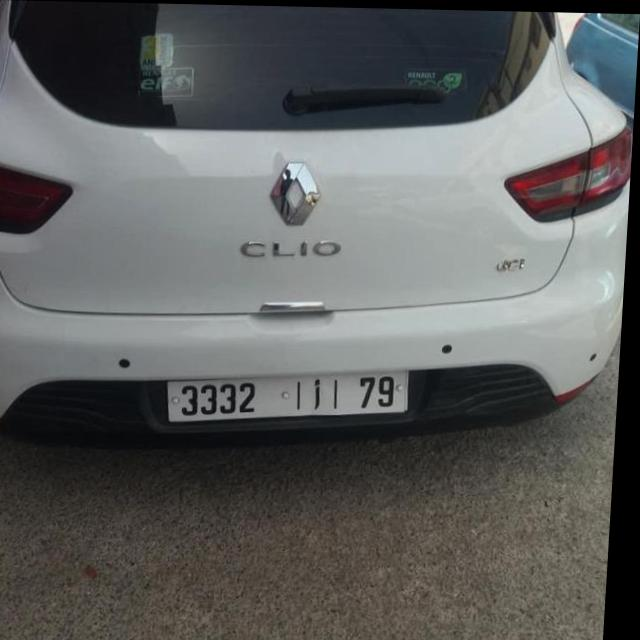License-Plate: (173, 369, 413, 422)
